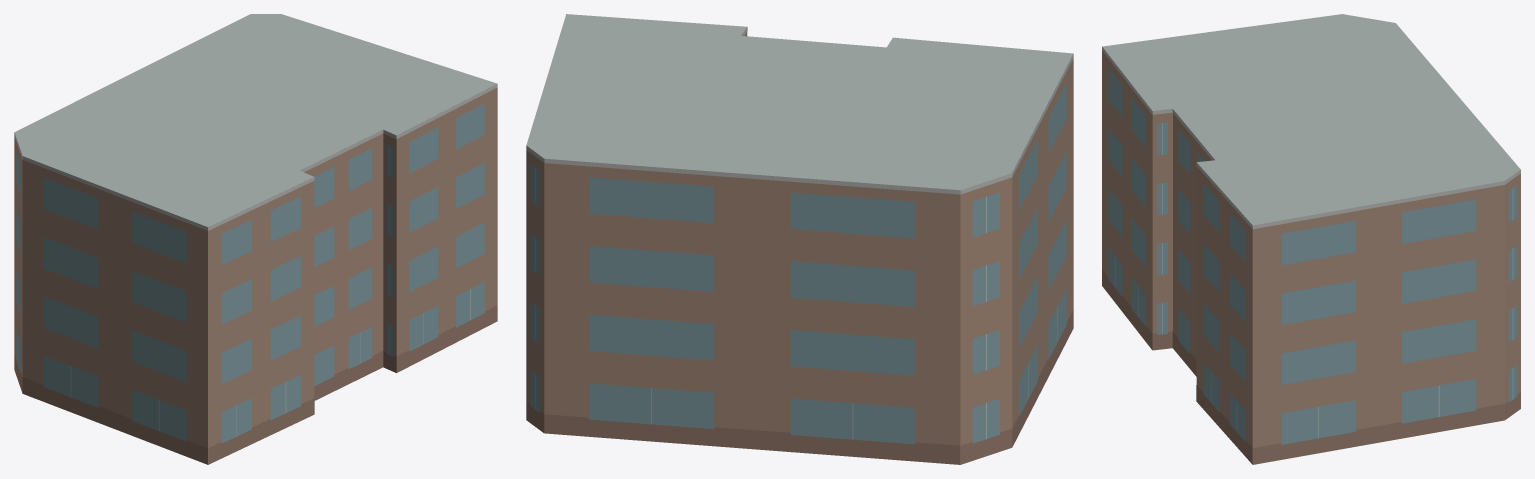
Rendered from survey-upis-32838249.glb.
3 renders of one model, left to right at view 1: azimuth 30°, elevation 25°; view 2: azimuth 150°, elevation 25°; view 3: azimuth 270°, elevation 25°, orthographic. The views are drawn at different scales.
Parts seen in each view (by area): view 1: survey-upis-32838249.tmp; view 2: survey-upis-32838249.tmp; view 3: survey-upis-32838249.tmp.
Part boxes in pixels (bbox=[...]): survey-upis-32838249.tmp: bbox=[14, 14, 497, 464]; survey-upis-32838249.tmp: bbox=[526, 14, 1073, 464]; survey-upis-32838249.tmp: bbox=[1102, 14, 1520, 464].
Size of the model in its own units: 29.19 by 15.4 by 24.42.
